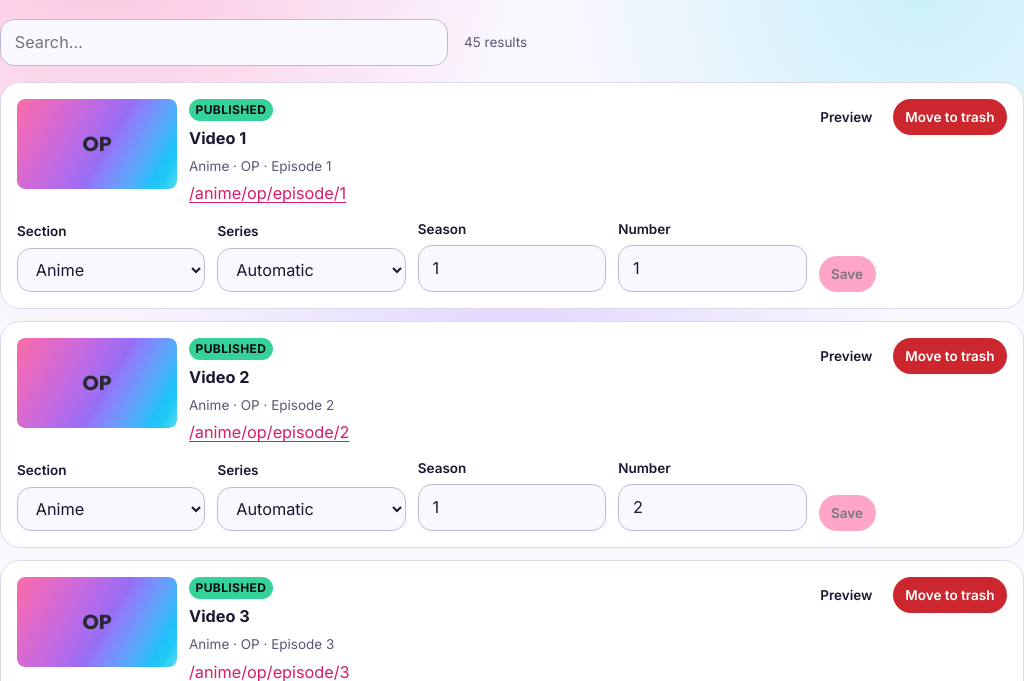
Test: admin lists — the list changing under the pager › after a delete the page is fetched again, so no item is skipped when paging on
Later steps or results of the test are not shown.
Click the 1st button "Move to trash" at point(950, 117), box [893, 99, 1007, 135]
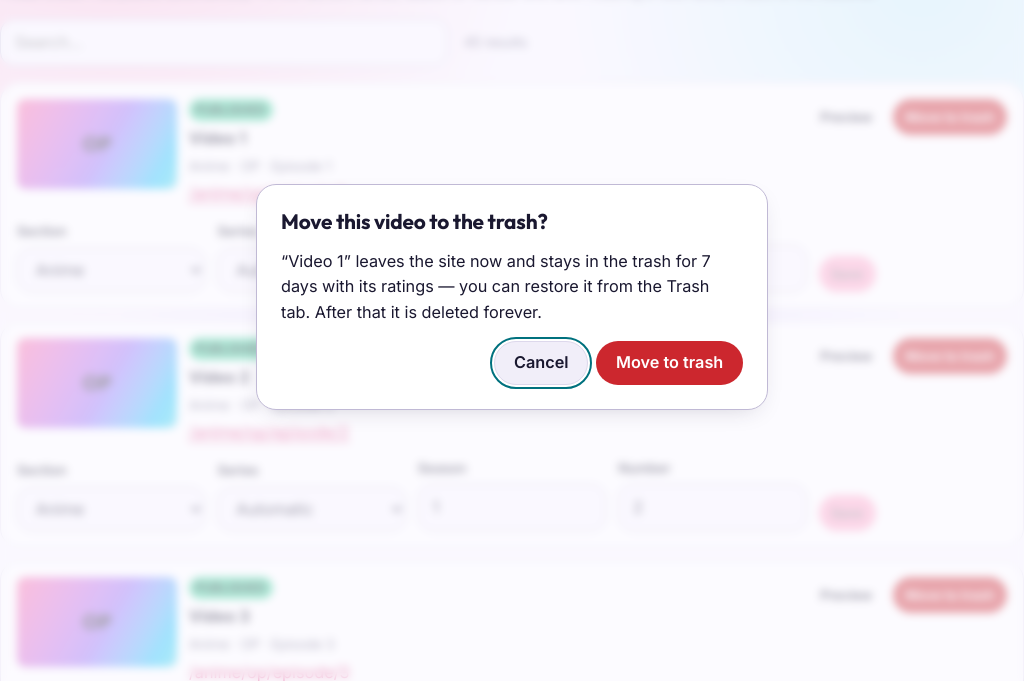
Click the button "Move to trash" at point(670, 363), box [596, 341, 743, 385]
(page scrolled)
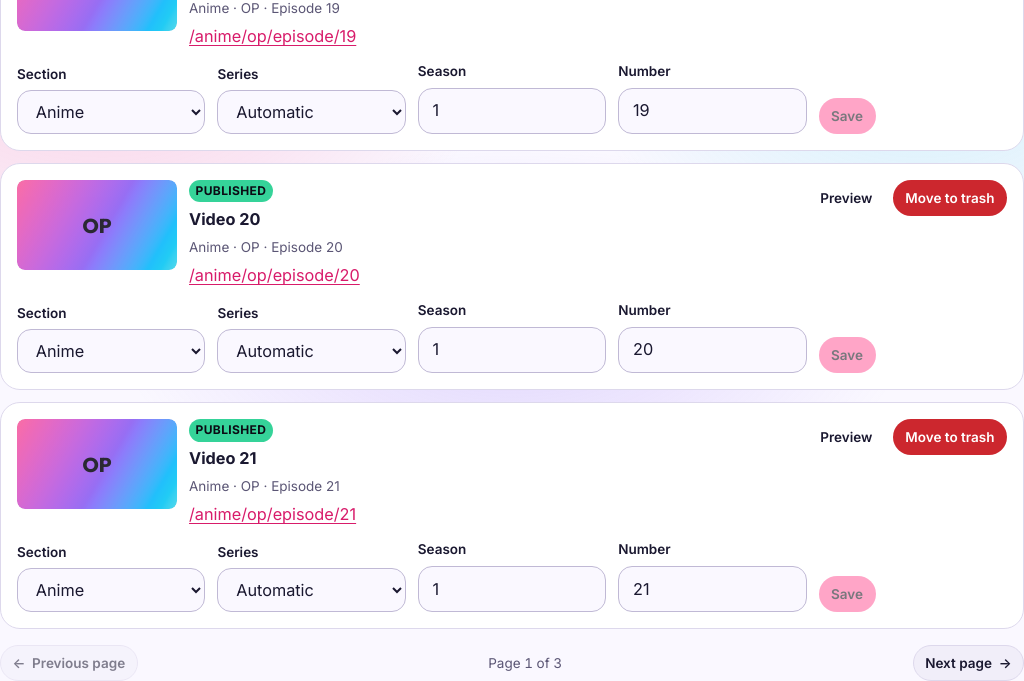
Click the button "Next page →" at point(968, 664), box [913, 646, 1023, 680]
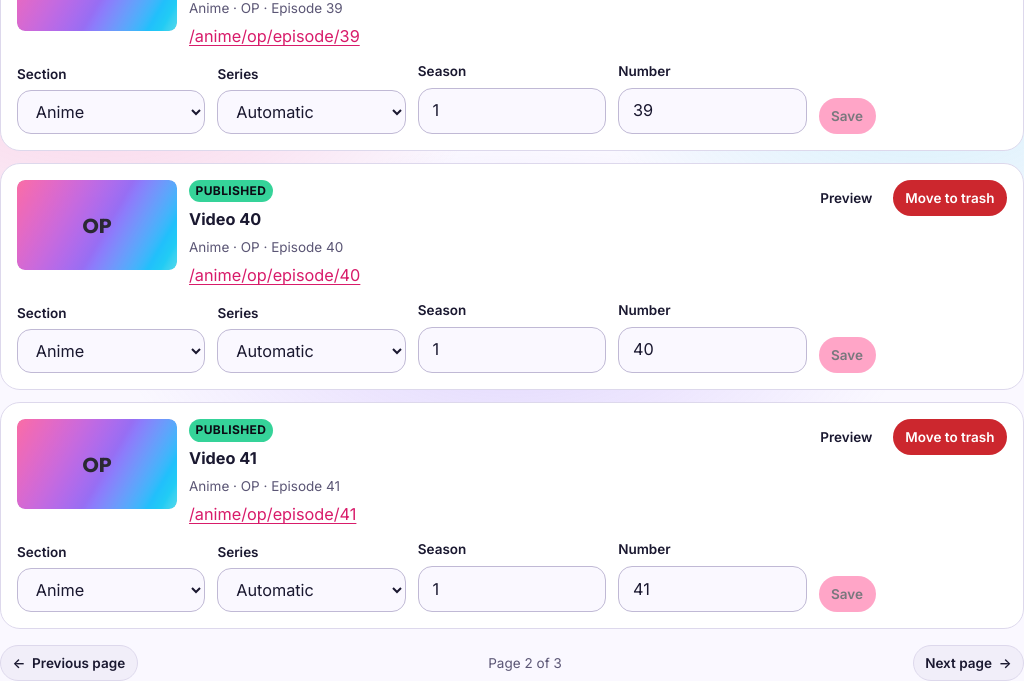
Expected: the text "Page 2 of 3" is shown, [488, 653, 562, 674]
